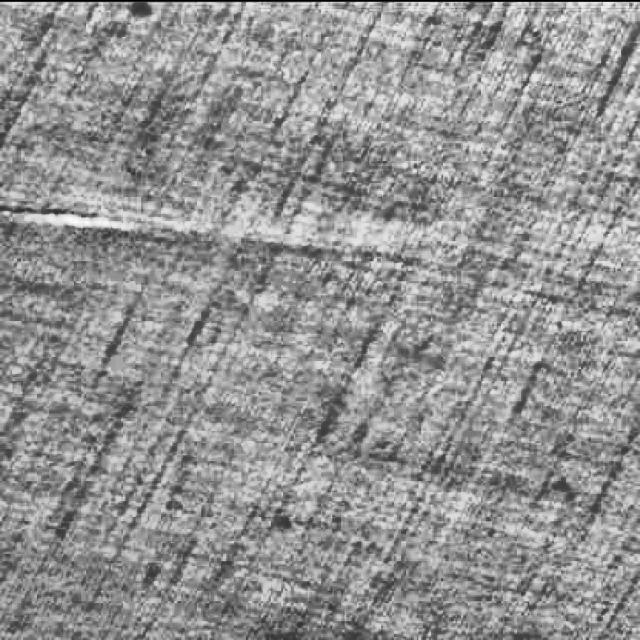thread_error: (0, 186, 154, 250)
